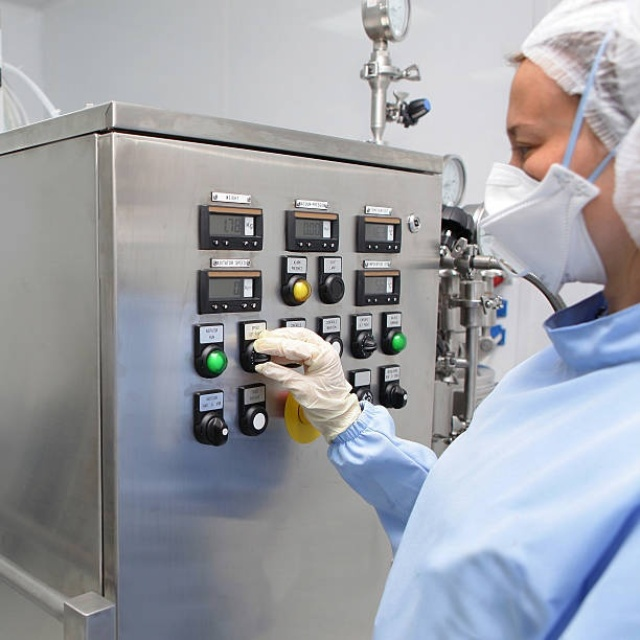Guantes: (252, 326, 362, 442)
Mascara: (477, 158, 621, 304)
Sin_gafas: (503, 96, 569, 163)
